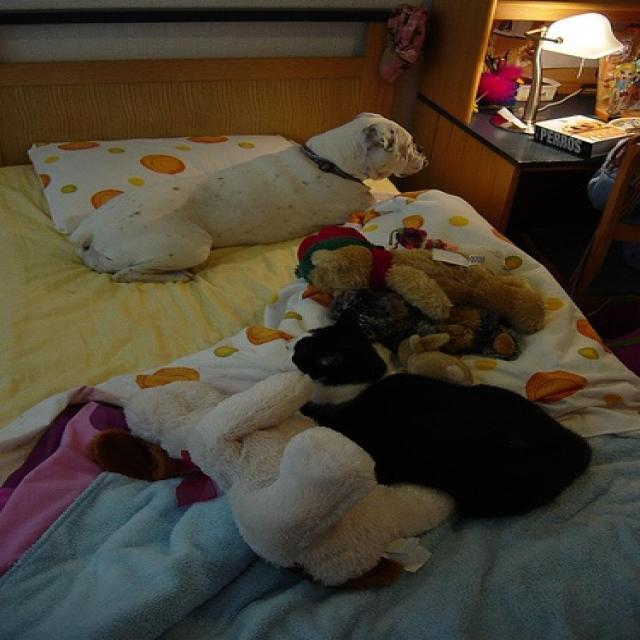dog: (65, 109, 435, 274)
